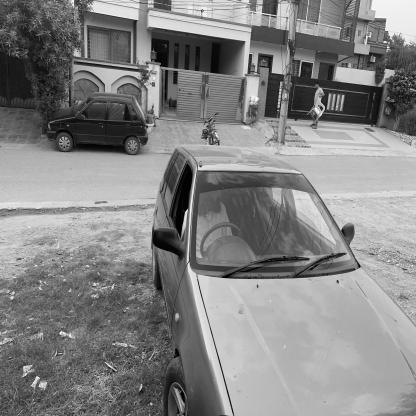no-seatbelt: (198, 191, 228, 248)
